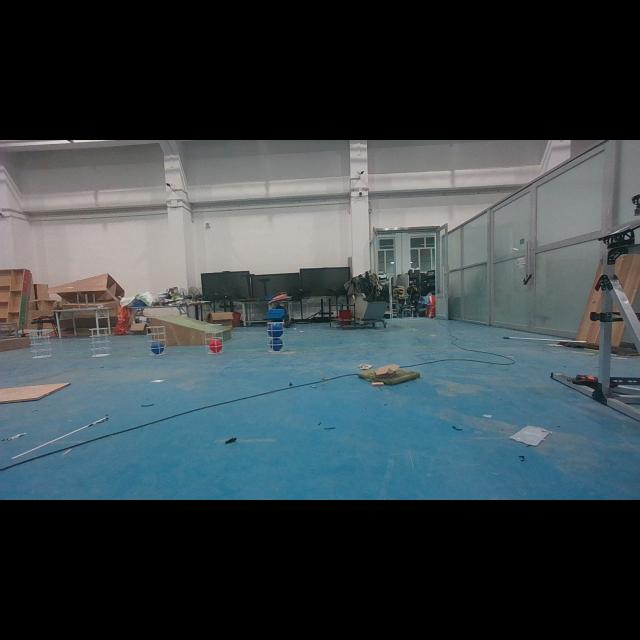B: (267, 324, 285, 338), (270, 338, 286, 350), (150, 342, 166, 353)
R: (208, 341, 224, 354)
S: (26, 326, 56, 360), (266, 318, 290, 356), (88, 326, 114, 358), (204, 322, 228, 356), (144, 325, 168, 357)
